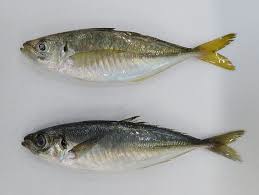azi: (17, 112, 243, 173), (17, 25, 238, 86)
